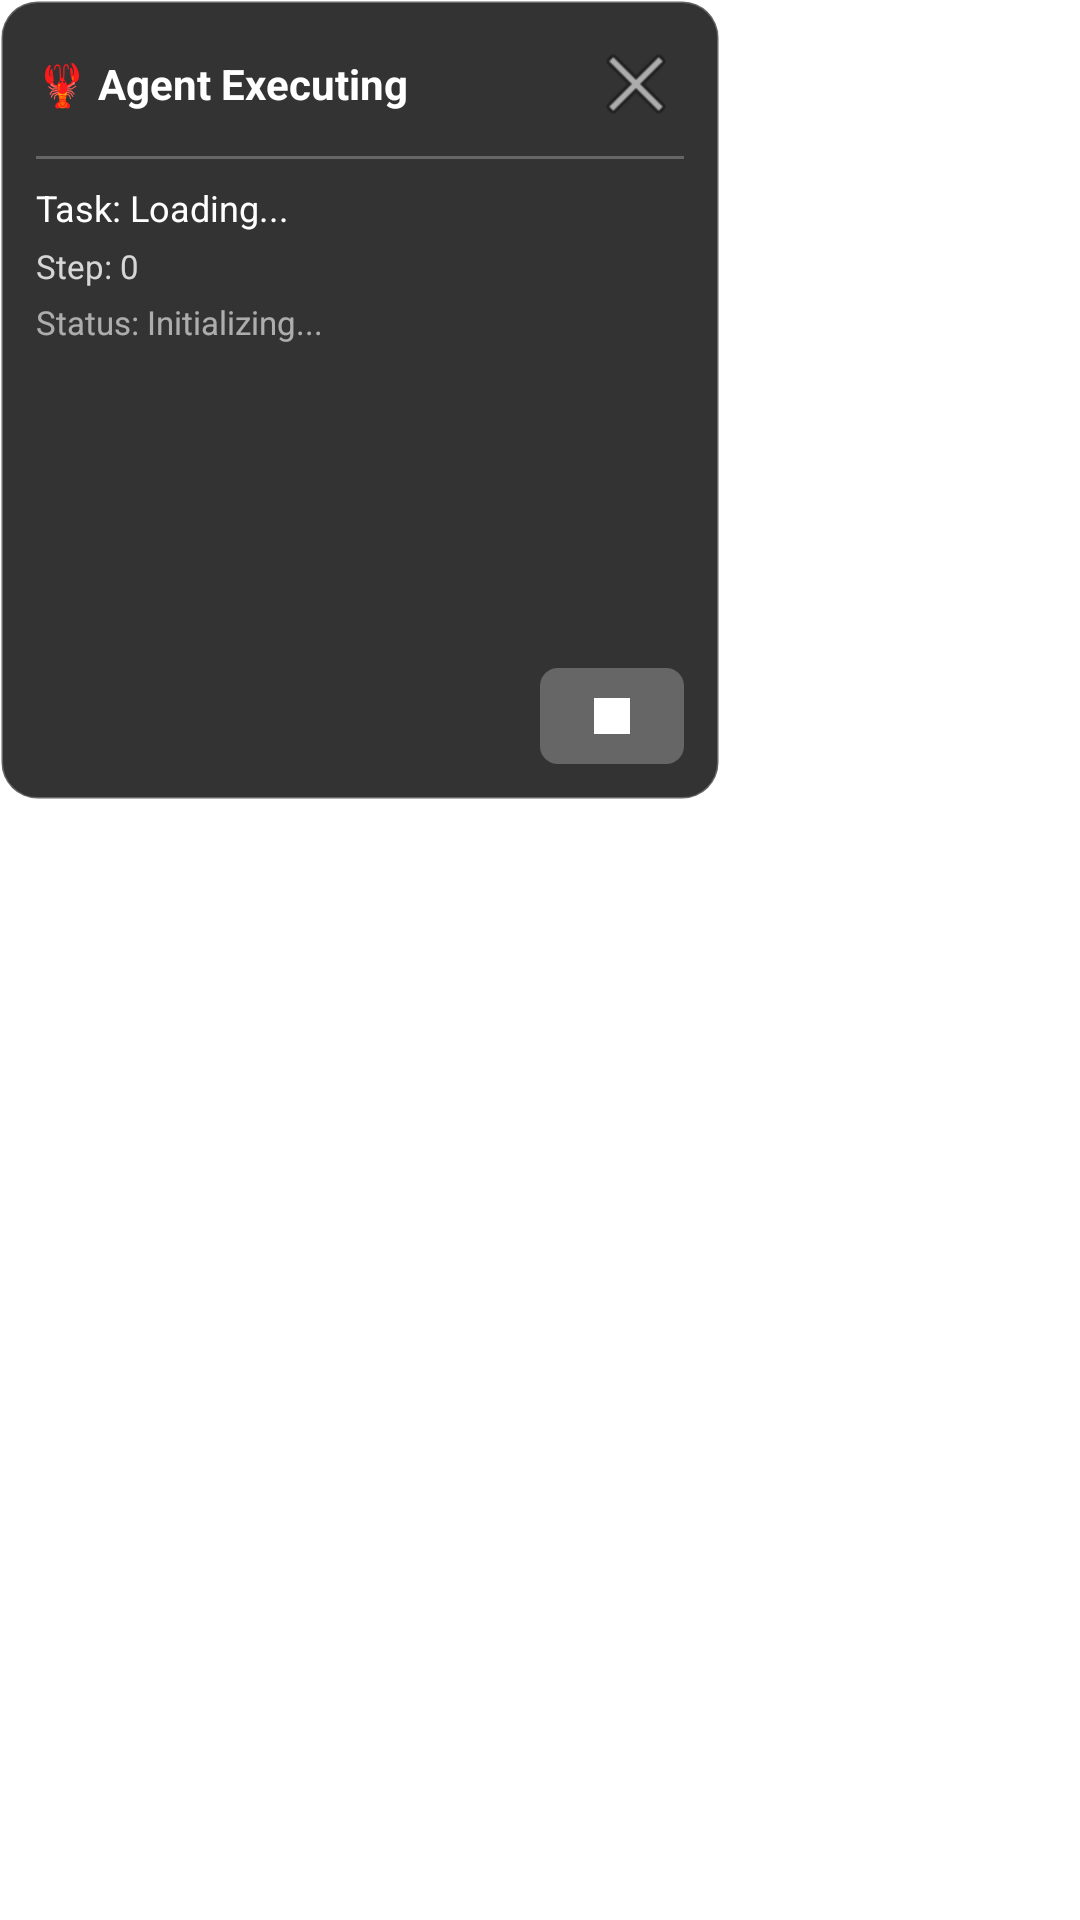

Screen size 1080 x 1920. Icon name, then its center in pixels as (x,y):
Stop Agent: (612,716)
